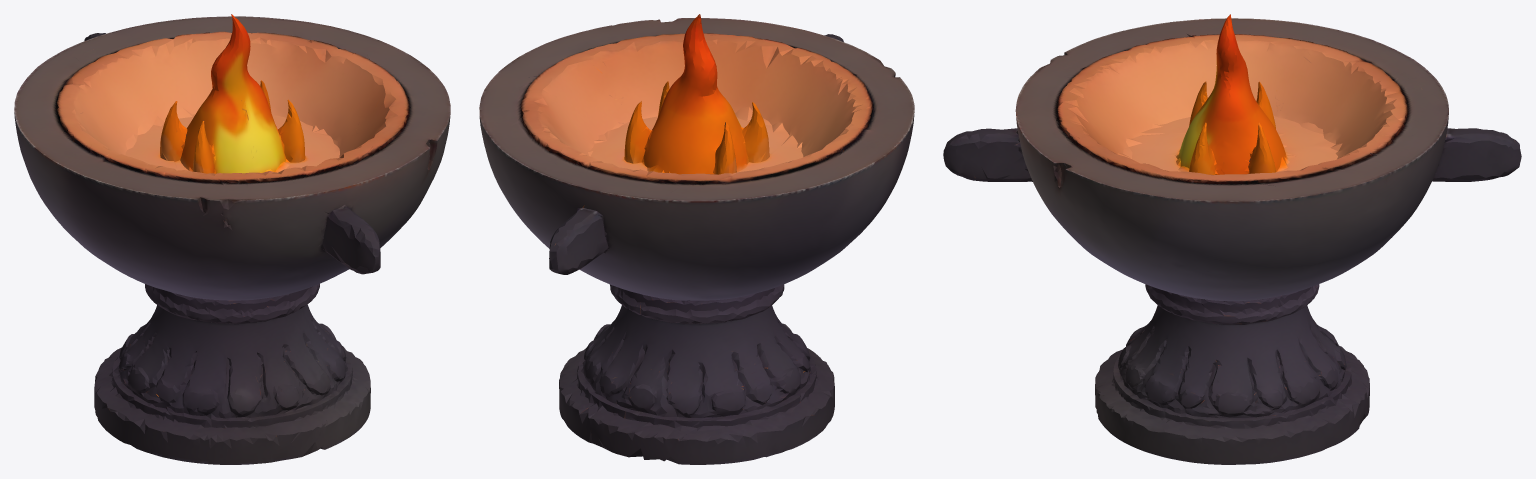
Rendered from rodin_Lab_Brazier_raw.glb.
The picture shows the model from 3 angles, left to right: view 1: azimuth 30°, elevation 25°; view 2: azimuth 150°, elevation 25°; view 3: azimuth 270°, elevation 25°; orthographic projection.
Visible parts, largest first — view 1: model; view 2: model; view 3: model.
Boxes of the visible parts, box(x1,y1,x2,y2) form: model: box(14, 14, 450, 464); model: box(479, 14, 914, 464); model: box(943, 14, 1521, 464).
Size of the model in its own units: 1.42 by 1.42 by 1.89.
1 material, 1 textured.
